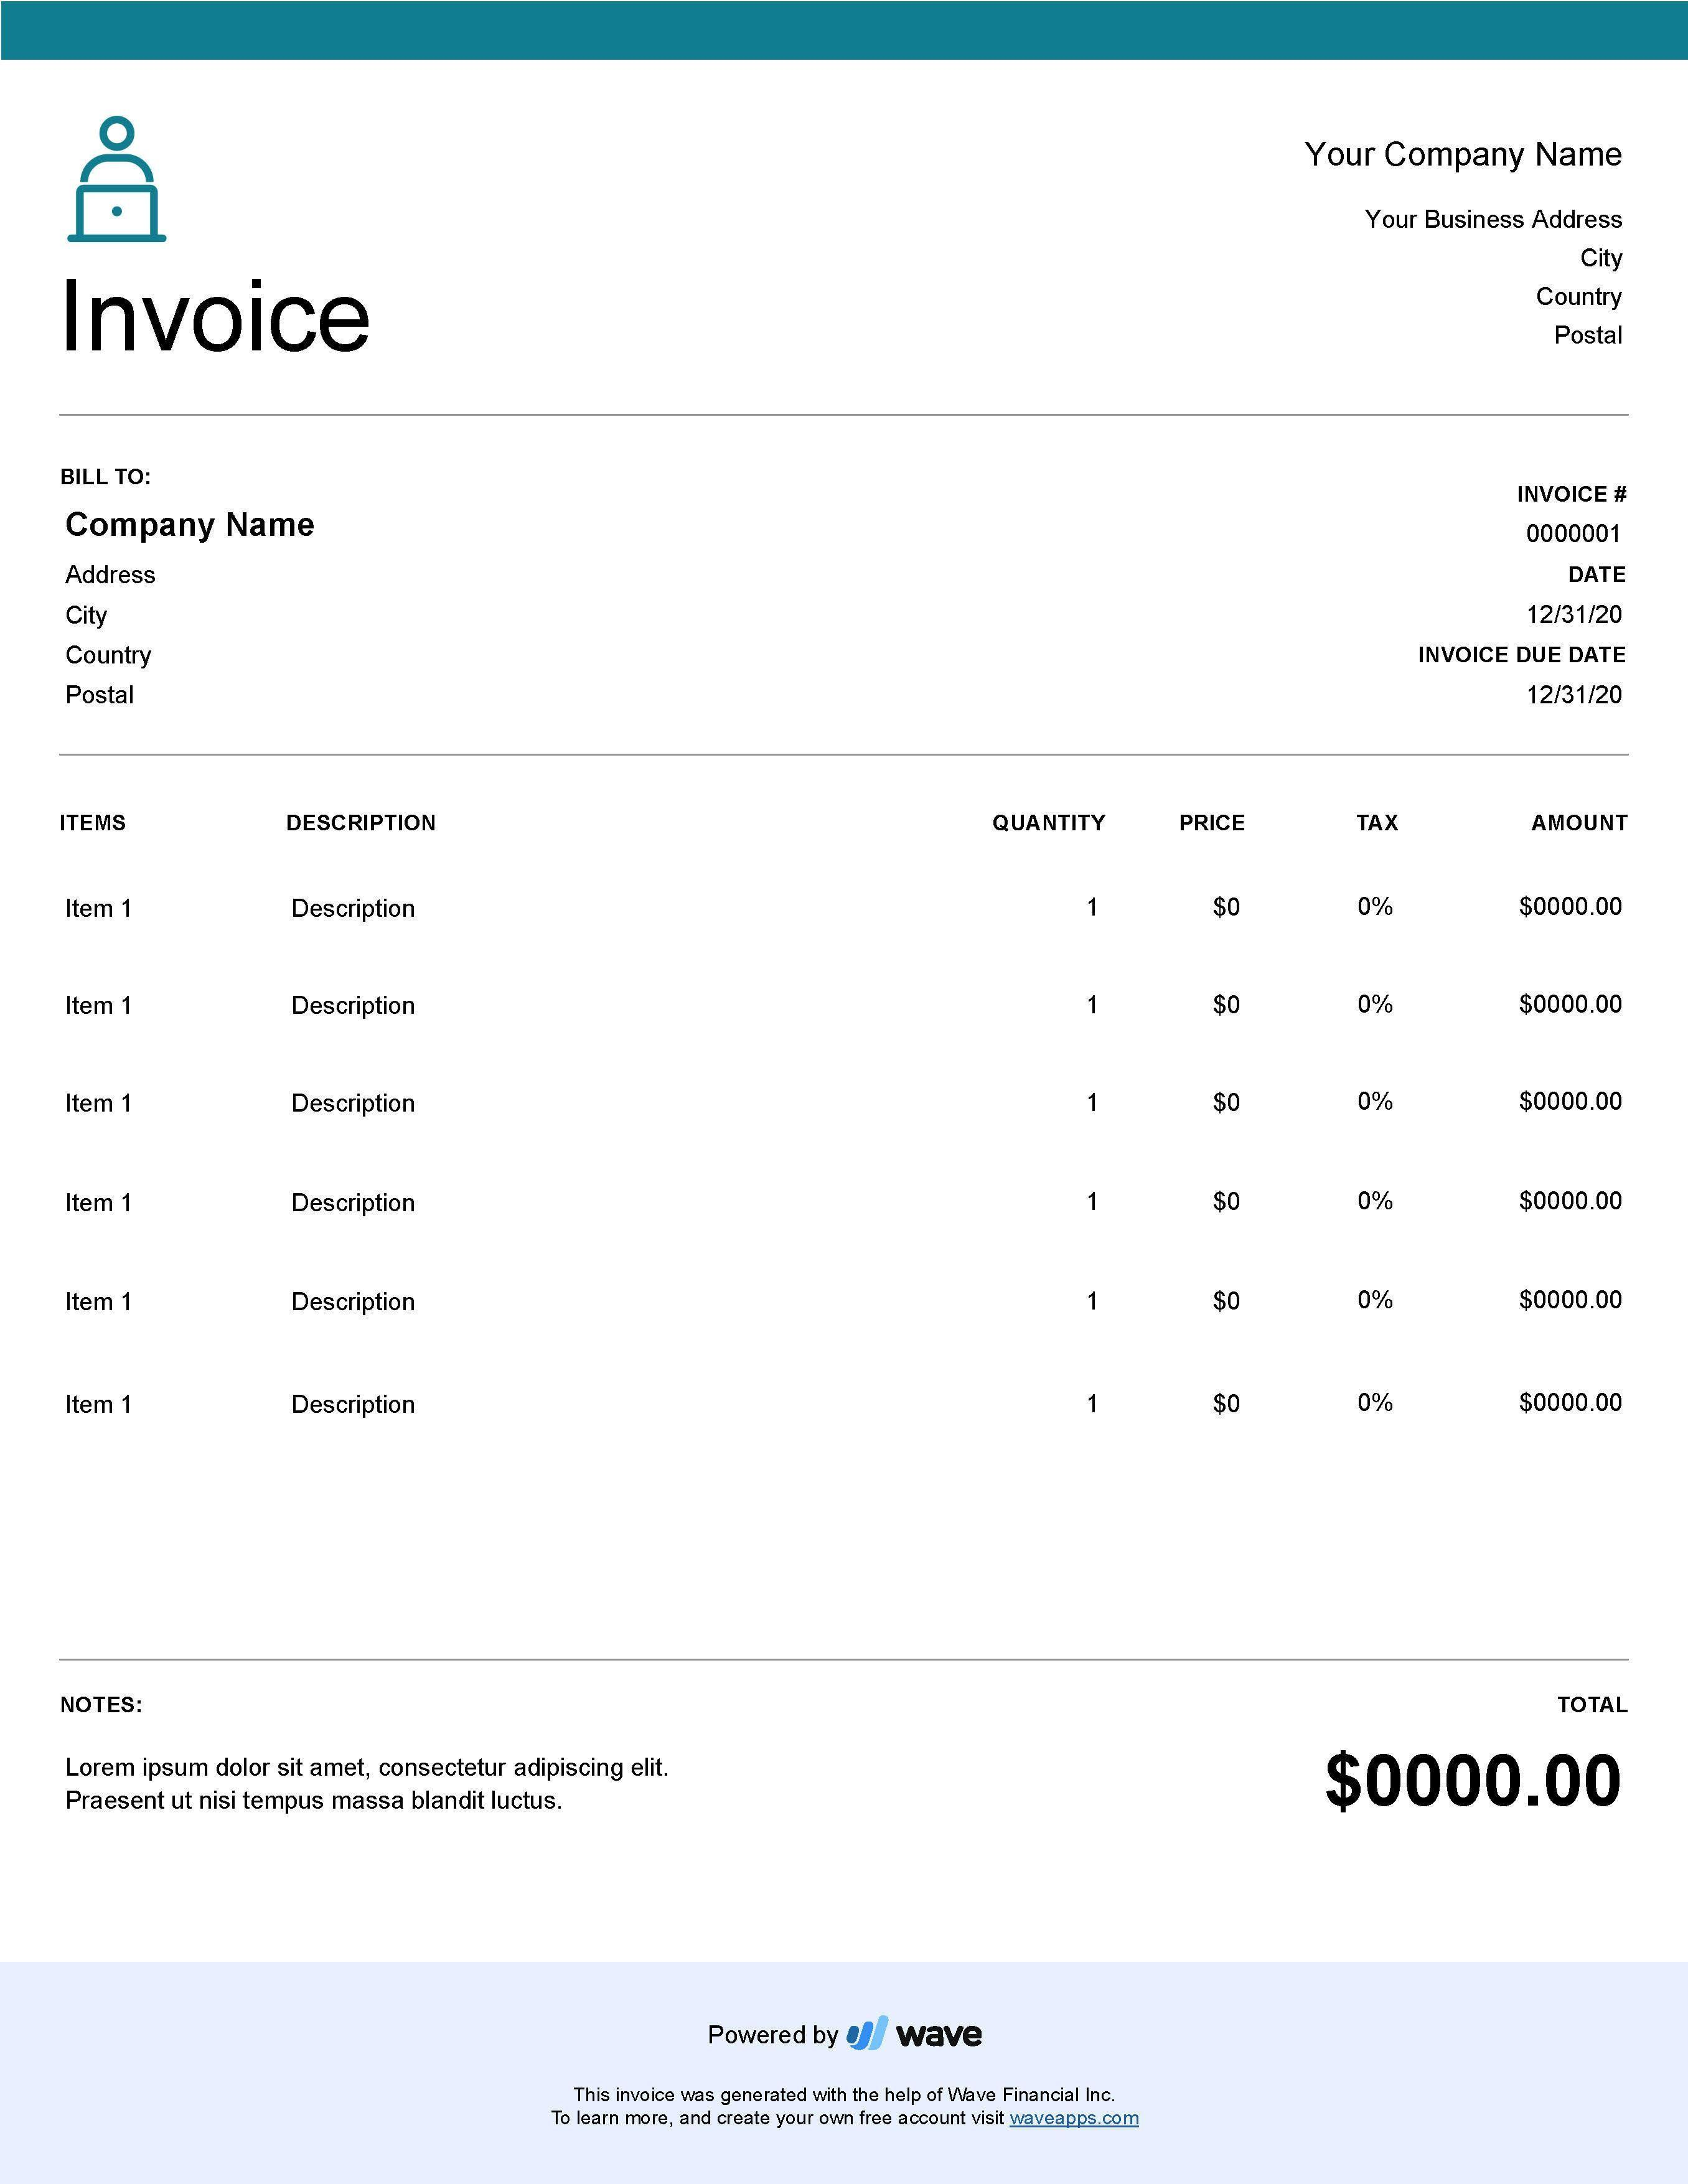ROI: (33, 766, 1656, 1456), (49, 447, 519, 734), (1350, 452, 1649, 725), (1288, 128, 1631, 359), (1278, 1667, 1688, 1841), (48, 1750, 694, 1817)
